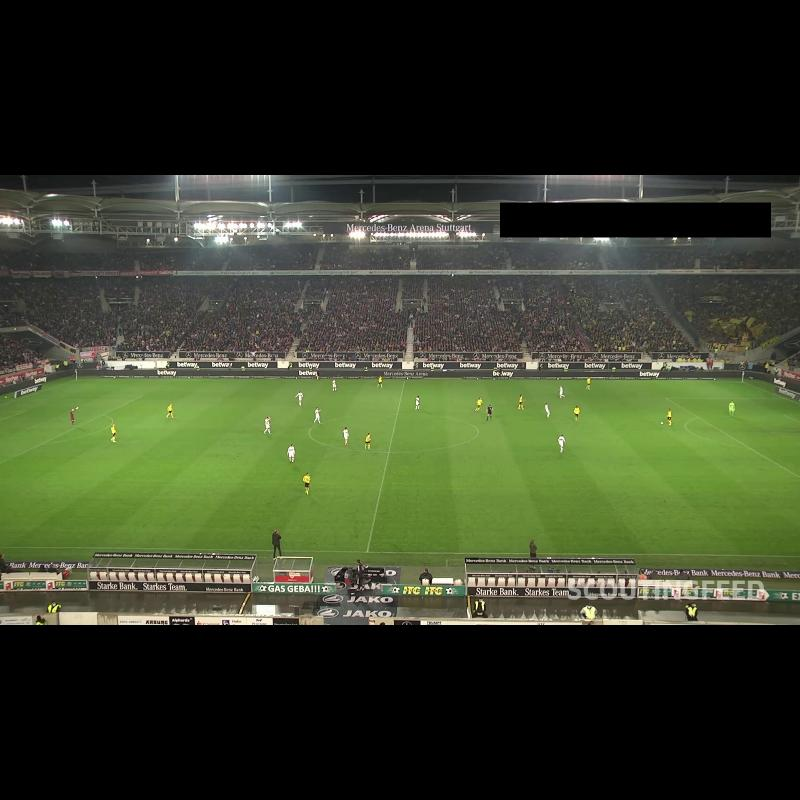cross_recipient_zone: (666, 398, 800, 478), (0, 393, 142, 464)
crossing_player_zone: (707, 486, 800, 556), (37, 379, 226, 397), (584, 382, 782, 399), (0, 484, 54, 523)
pitch: (0, 380, 800, 557)
